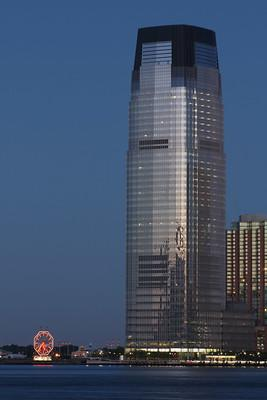building: (123, 21, 230, 362)
